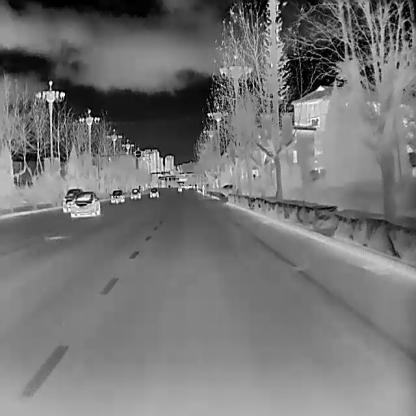car: (70, 190, 100, 217), (62, 188, 84, 213), (217, 183, 239, 196), (110, 188, 125, 202), (130, 188, 141, 200), (148, 187, 158, 197)
